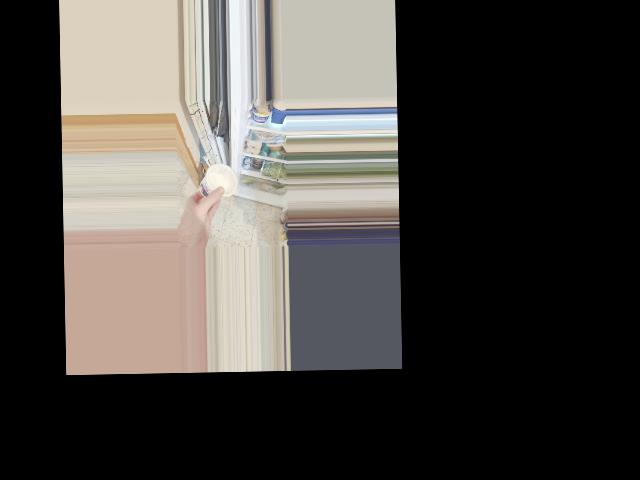cotage: (196, 159, 238, 202)
